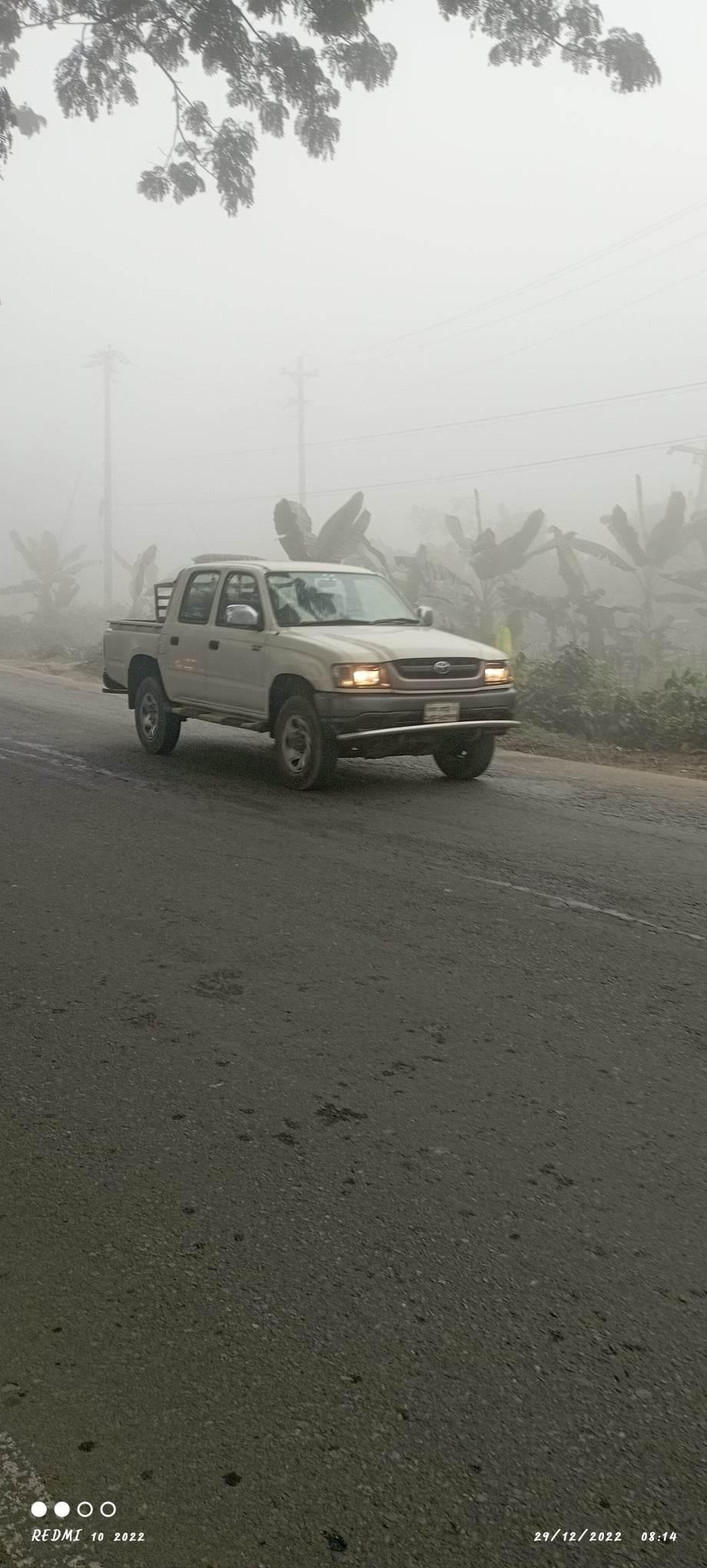Truck: (78, 514, 528, 838)
